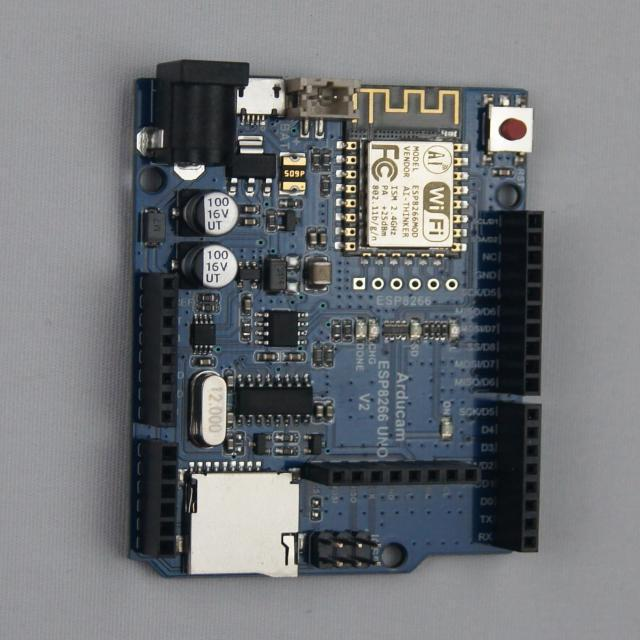Arduino Uno Camera Shield: (132, 62, 544, 578)
